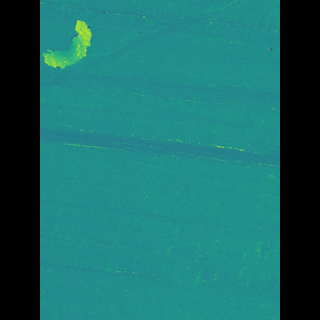Loch: (69, 0, 225, 95), (70, 17, 108, 78)
